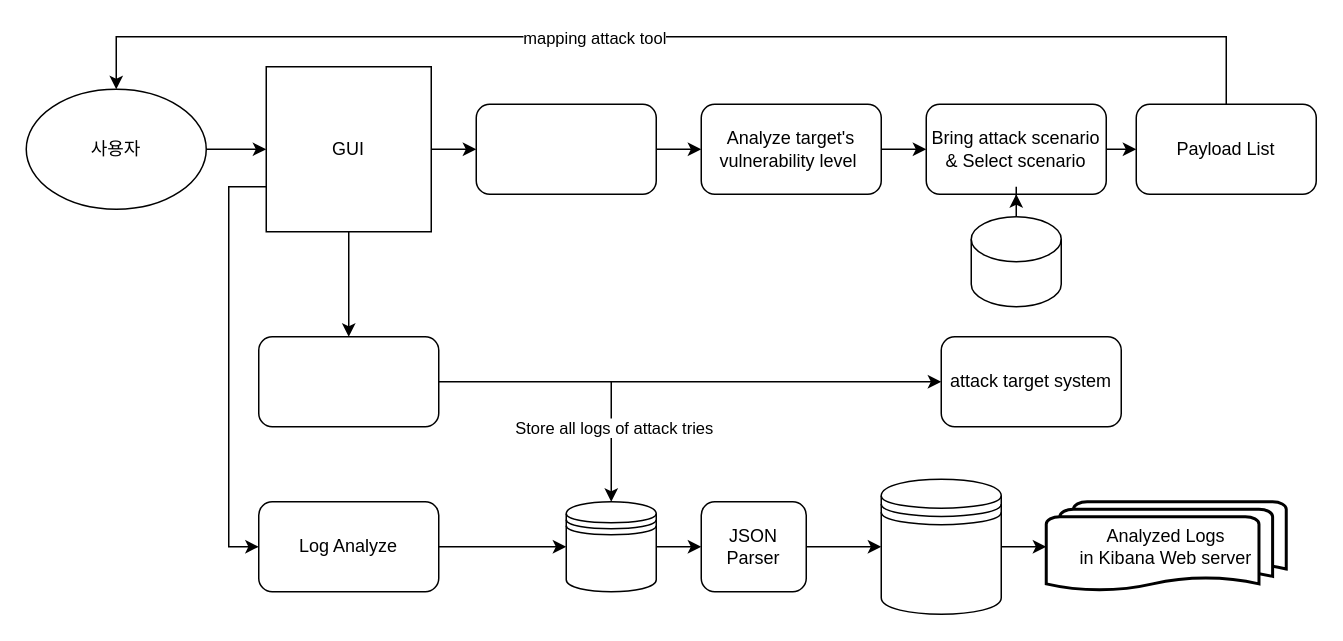
Image size: 1343x641. Some labels were removed from this diagram. The shapes that lost their labels are listed below. From the top down, each one's centre as x and y in pixels, then its label:
point (565, 148): target system profiling
point (1015, 261): Scenario Pool
point (348, 381): Select attack tool
point (610, 546): Log Control Container
point (940, 546): ELK Stack
